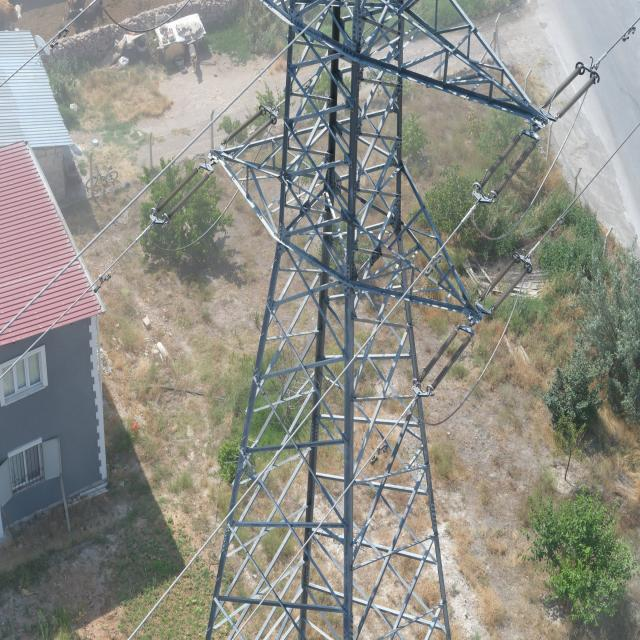direk: (179, 0, 476, 634)
